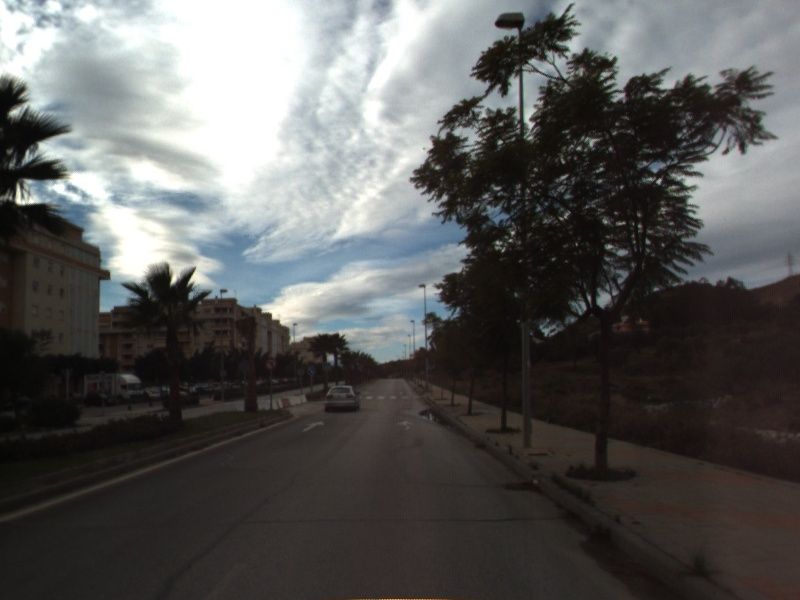STRAIGHT: (299, 419, 327, 434)
